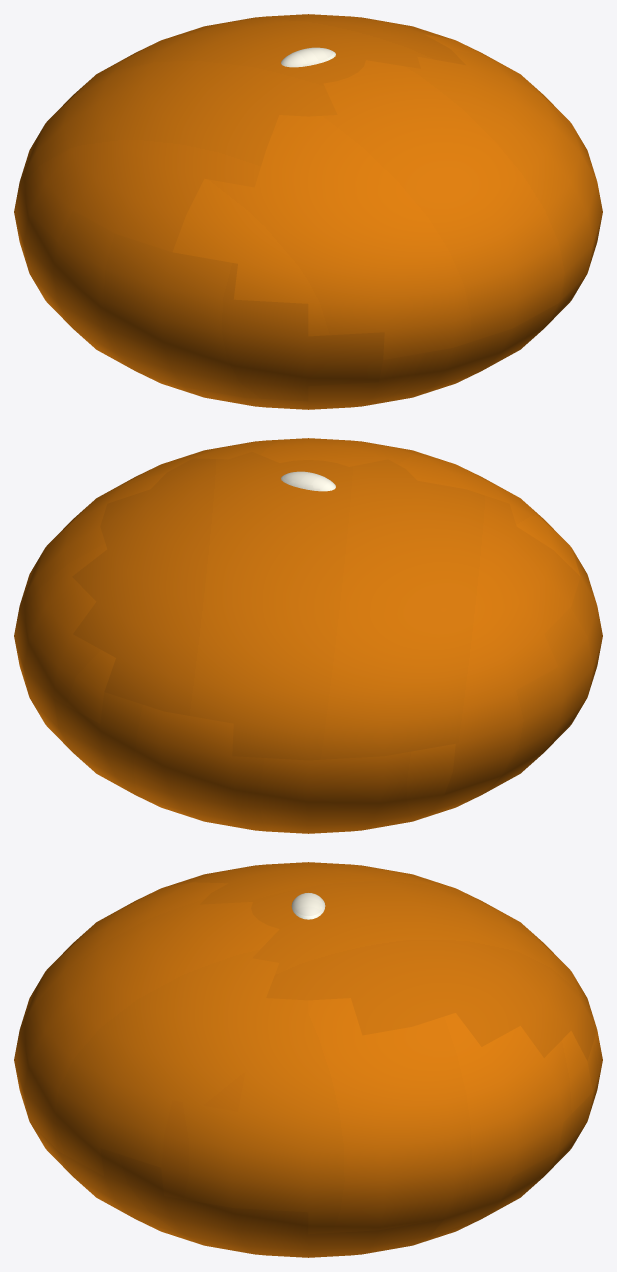
File: bun_top.glb
The picture shows the model from 3 angles, top to bottom: view 1: azimuth 30°, elevation 25°; view 2: azimuth 150°, elevation 25°; view 3: azimuth 270°, elevation 25°; orthographic projection.
Visible parts, largest first — view 1: BunTopDome, Sesame_0; view 2: BunTopDome, Sesame_0; view 3: BunTopDome, Sesame_0.
Boxes of the visible parts, x1,y1,x2,y2 form: BunTopDome: (14,14,602,409); Sesame_0: (281,47,335,67); BunTopDome: (14,438,602,833); Sesame_0: (281,471,335,491); BunTopDome: (14,862,602,1257); Sesame_0: (291,893,325,919).
Bounding box in the file's own units: 0.45 × 0.2663 × 0.45.
2 materials, 2 textured.
